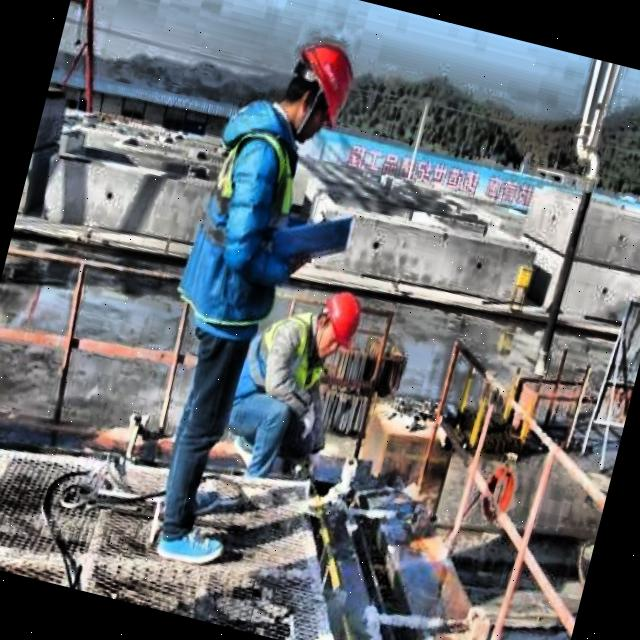helmet: (270, 27, 368, 150), (304, 282, 368, 362)
